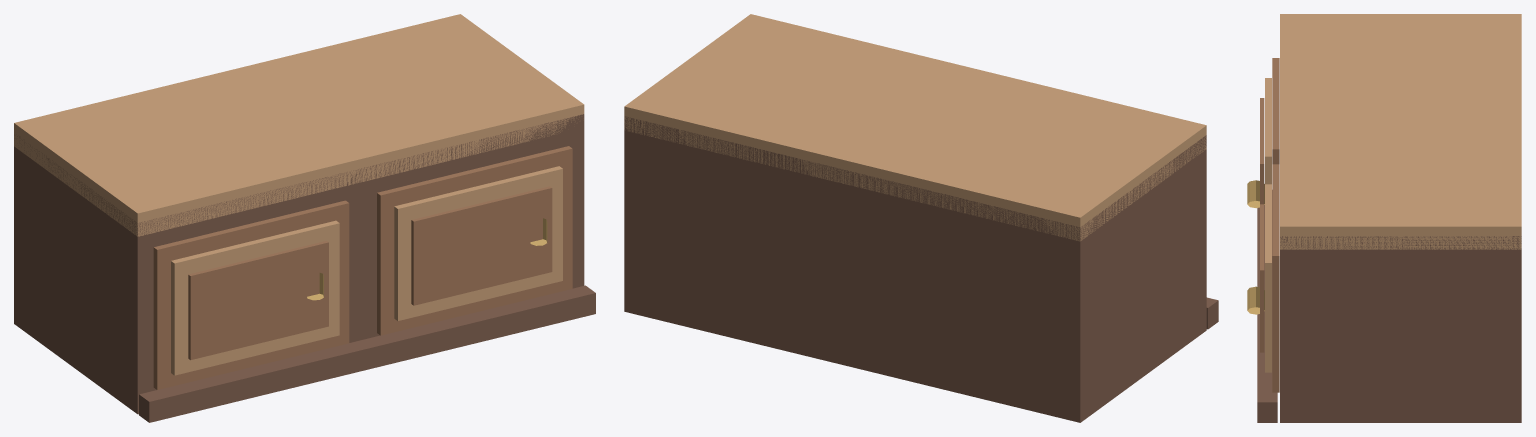
The model's file is counter-front-oak.glb.
The picture shows the model from 3 angles, left to right: view 1: azimuth 30°, elevation 25°; view 2: azimuth 150°, elevation 25°; view 3: azimuth 270°, elevation 25°; orthographic projection. The views are drawn at different scales.
Visible parts, largest first — view 1: counter_front_oak_cabinet; view 2: counter_front_oak_cabinet; view 3: counter_front_oak_cabinet.
Boxes of the visible parts, x1,y1,x2,y2 form: counter_front_oak_cabinet: (14, 14, 595, 422); counter_front_oak_cabinet: (624, 14, 1218, 422); counter_front_oak_cabinet: (1247, 14, 1521, 422).
Bounding box in the file's own units: 2 × 0.86 × 1.09.
